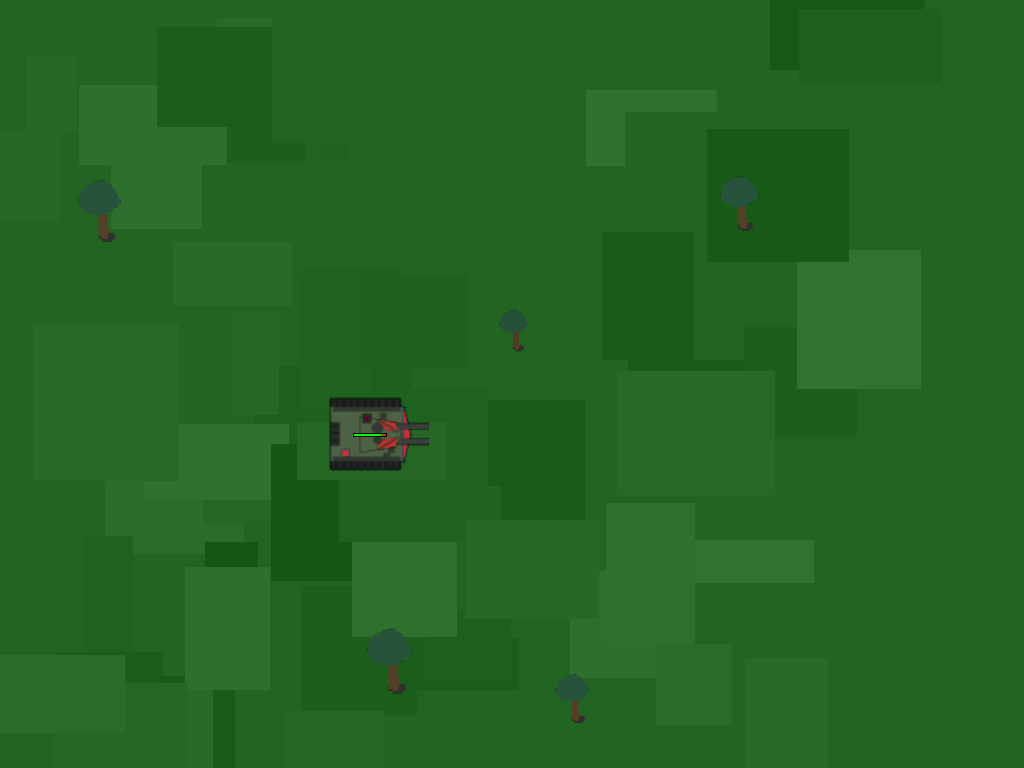MiningRig: (332, 394, 409, 471)
